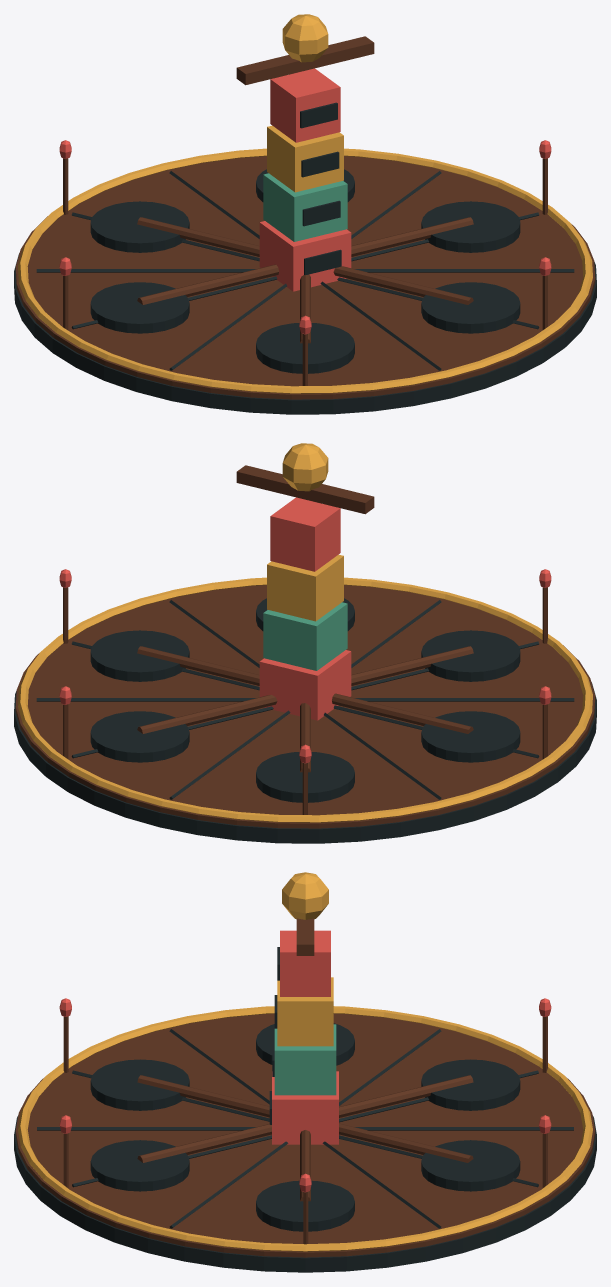
Rendered from ParkParkCoconutHub.obj.
The picture shows the model from 3 angles, top to bottom: view 1: azimuth 30°, elevation 25°; view 2: azimuth 150°, elevation 25°; view 3: azimuth 270°, elevation 25°; orthographic projection.
Parts seen in each view (by area): view 1: ParkParkCoconutHub; view 2: ParkParkCoconutHub; view 3: ParkParkCoconutHub.
Boxes of the visible parts, x1=… form: ParkParkCoconutHub: x1=14, y1=14, x2=596, y2=414; ParkParkCoconutHub: x1=14, y1=443, x2=596, y2=843; ParkParkCoconutHub: x1=14, y1=872, x2=596, y2=1272.
Bounding box in the file's own units: 16.5 × 8.6 × 16.5.
